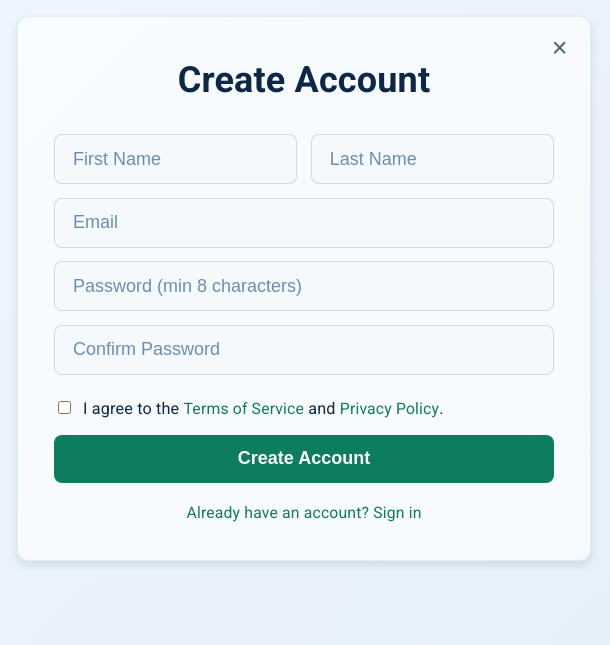
Test: SignupPanel › shows OAuth redirect message on 409 with account_exists_oauth
The width and height of the screenshot is (610, 645).
Type "John" into the field with placeholder "First Name" at (176, 159), box [54, 134, 297, 184]
Type "Doe" into the field with placeholder "Last Name" at (432, 159), box [311, 134, 554, 184]
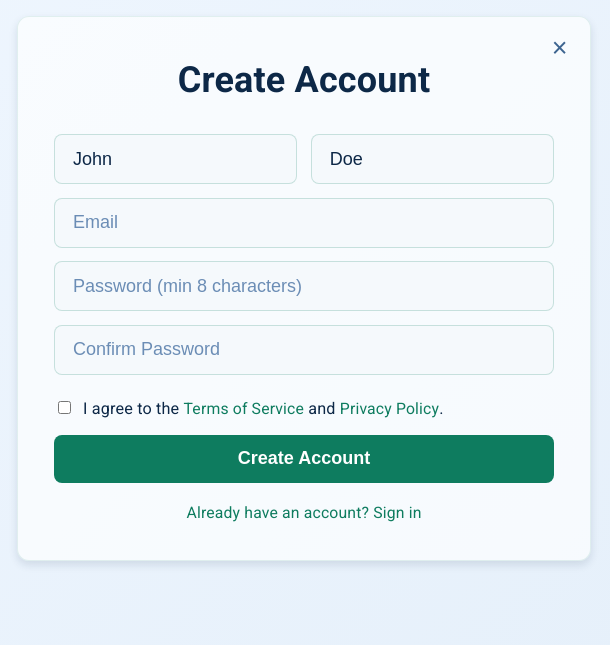
Type "john@test.com" into the field with placeholder "Email" at (304, 222), box [54, 198, 554, 248]
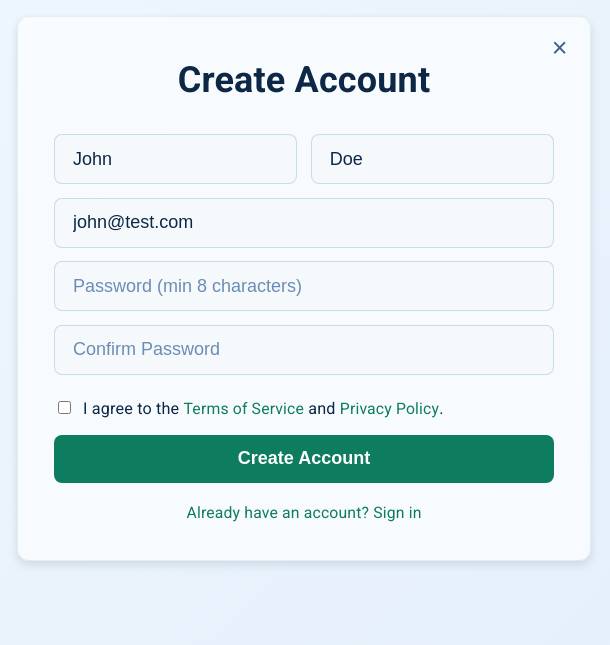
Type "password123" into the password field with placeholder "Password (min 8 characters)" at (304, 286), box [54, 261, 554, 311]
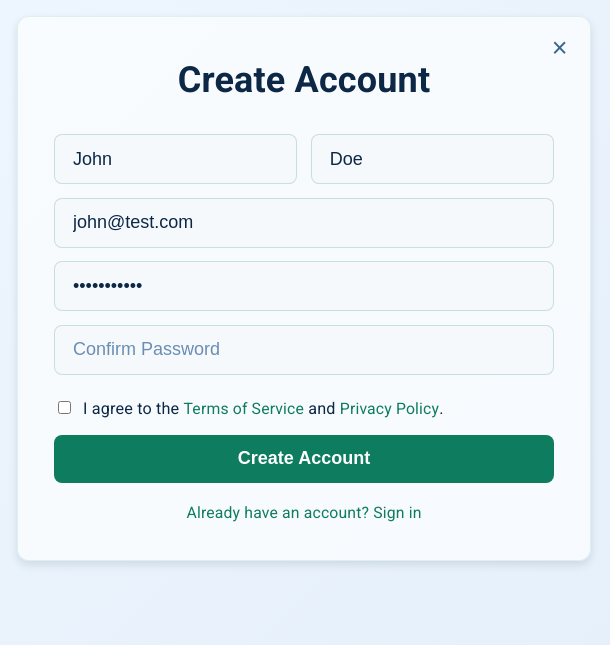
Type "password123" into the password field with placeholder "Confirm Password" at (304, 350), box [54, 324, 554, 374]
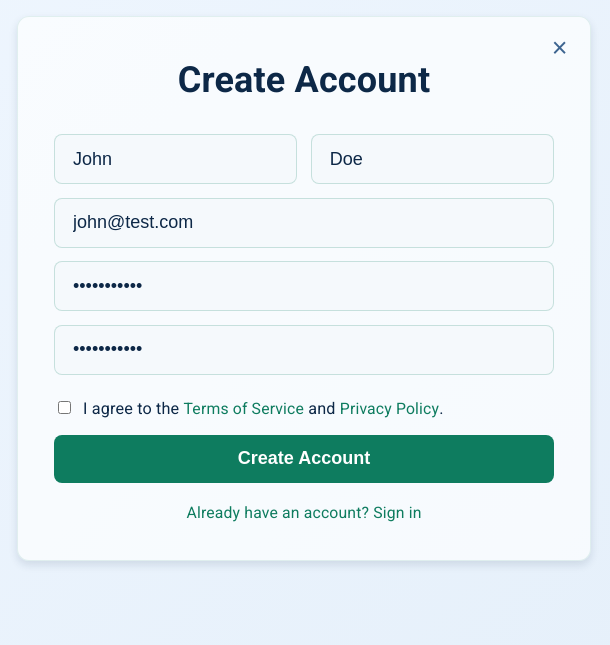
Click the checkbox named "Accept Terms of Service" at (64, 407), box [58, 401, 71, 414]
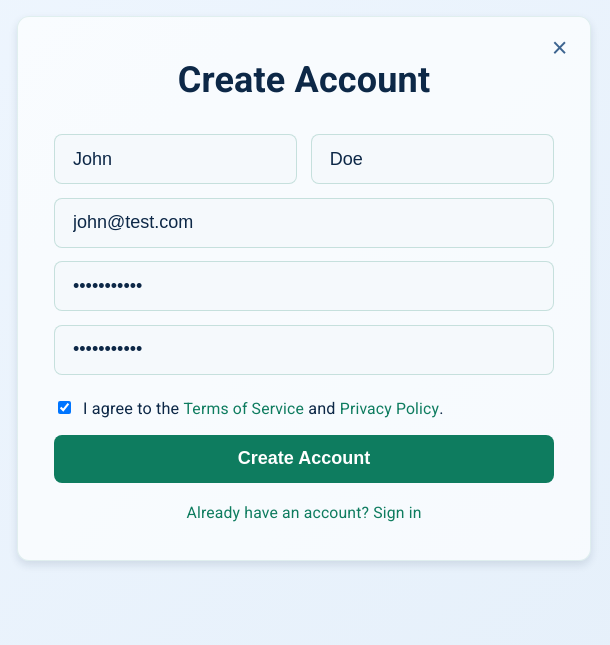
Click the button "Create Account" at (304, 459), box [54, 435, 554, 483]
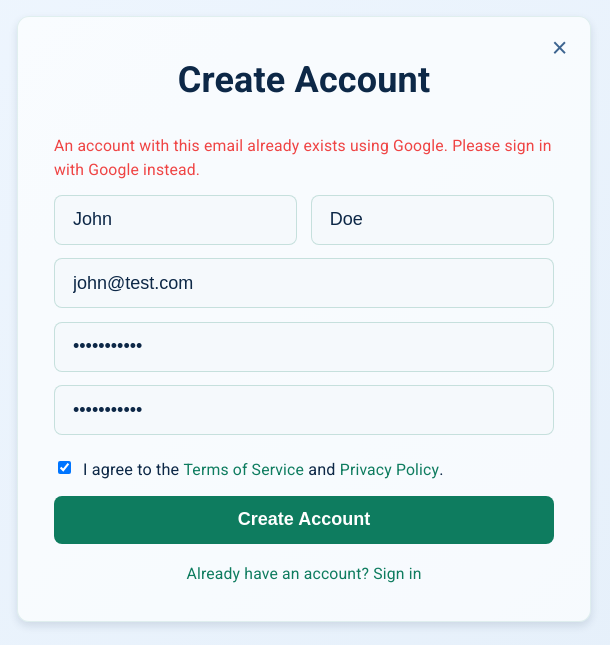
Expected: the text "already exists using Google" is shown, [54, 136, 552, 179]
